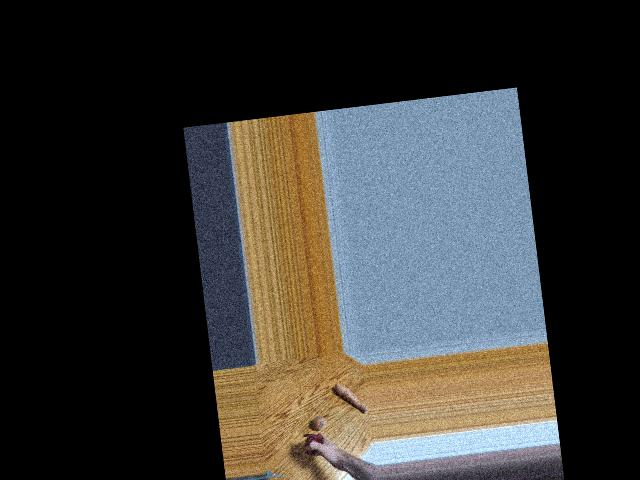onion: (305, 432, 326, 454)
